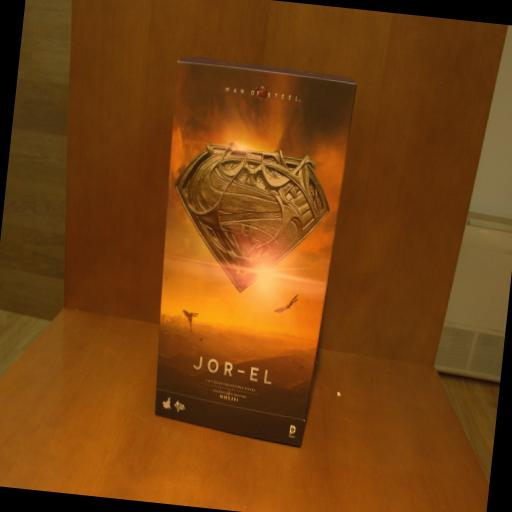superman: (140, 56, 360, 445)
